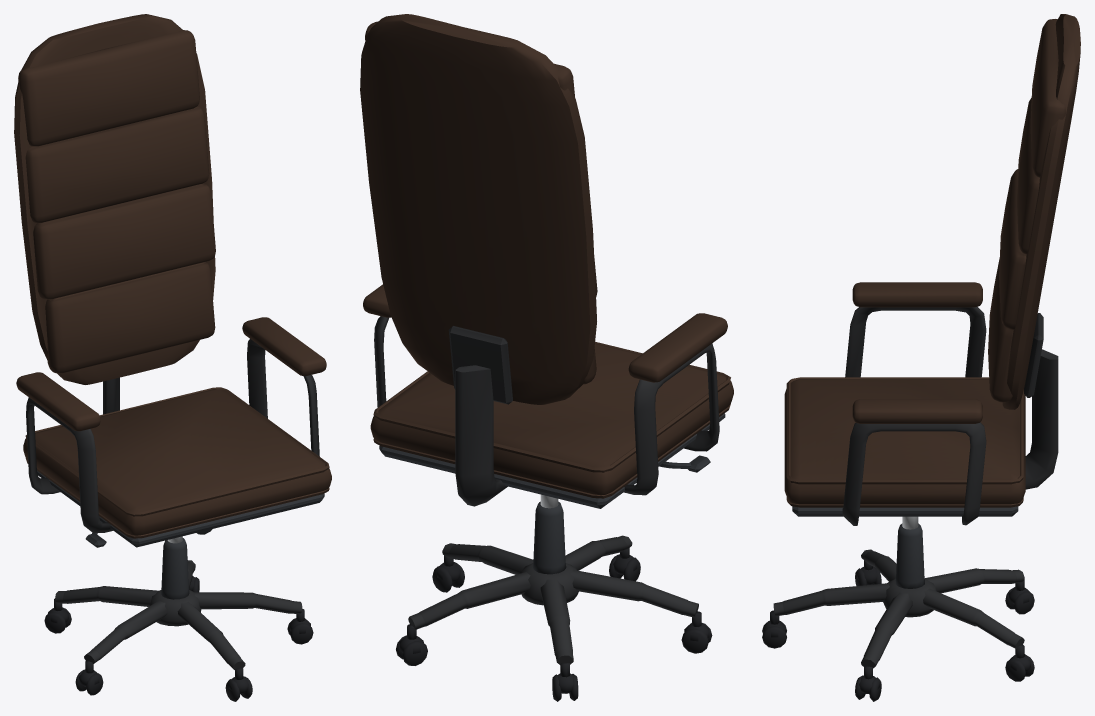
The model's file is chairExecutive.glb.
3 renders of one model, left to right at view 1: azimuth 30°, elevation 25°; view 2: azimuth 150°, elevation 25°; view 3: azimuth 270°, elevation 25°, orthographic. The views are drawn at different scales.
Visible parts, largest first — view 1: seat, base; view 2: seat, base; view 3: seat, base.
Boxes of the visible parts, x1,y1,x2,y2 form: seat: (14,14,331,547); base: (44,536,313,701); seat: (360,14,733,508); base: (396,494,712,701); seat: (784,14,1080,525); base: (762,516,1034,701).
Bounding box in the file's own units: 0.618 × 1.33 × 0.6346.
